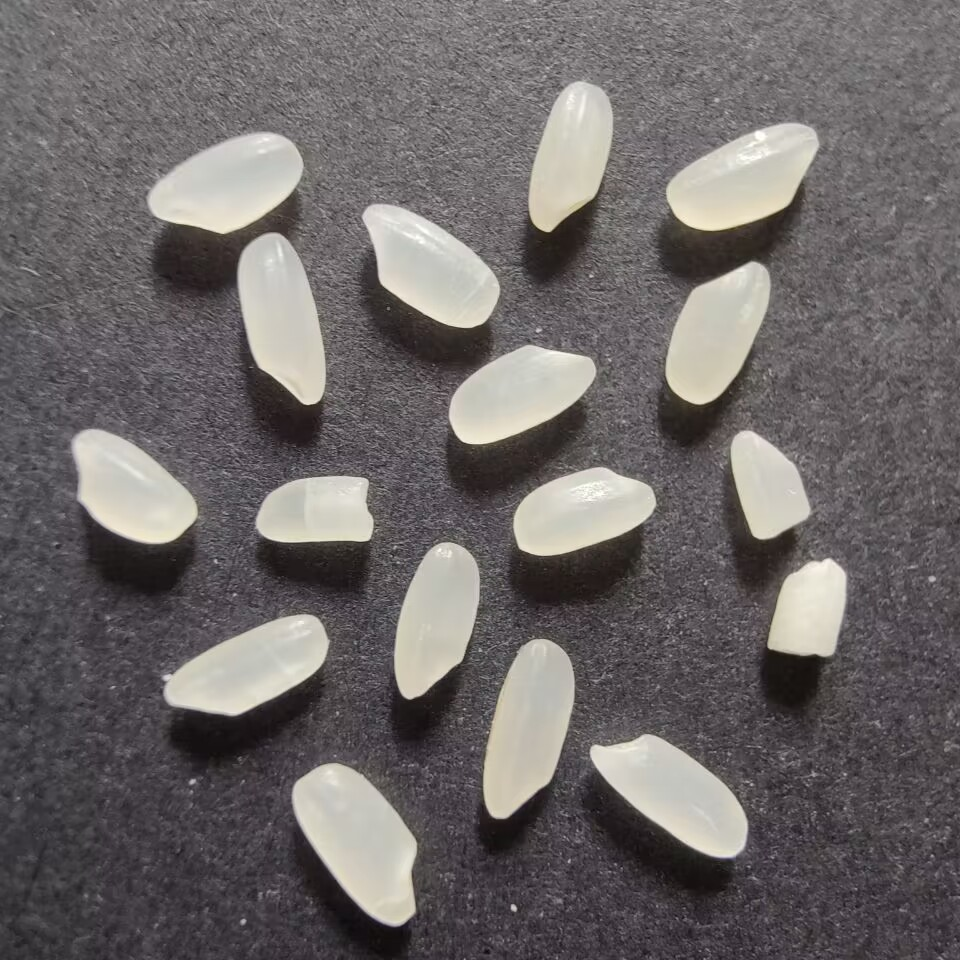broken: (725, 426, 812, 546), (250, 469, 376, 547), (761, 555, 850, 661)
rice: (285, 759, 425, 933), (587, 730, 759, 860), (356, 199, 505, 334), (478, 634, 582, 826), (158, 607, 332, 718), (658, 118, 822, 232), (141, 126, 307, 236), (232, 229, 329, 414), (62, 422, 201, 551), (658, 255, 776, 406), (444, 338, 599, 447), (519, 77, 621, 238), (505, 462, 662, 560), (391, 537, 483, 704)
